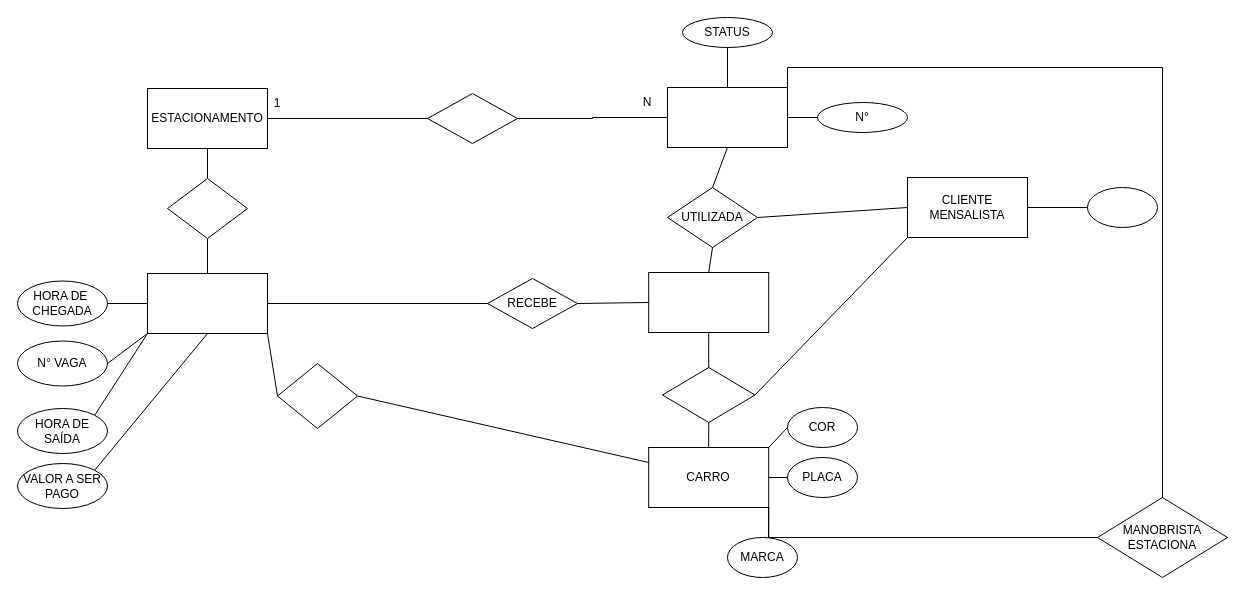
The diagram is 1245 pixels wide and 595 high, and some of its shapes have lost their labels. The shapes that lost their labels are listed below. From the top down, each one's centre as x and y in pixels, then its label:
At (x=472, y=118): "FORNECE".
At (x=727, y=117): "VAGAS".
At (x=207, y=208): "EMITE".
At (x=1122, y=207): "NOME".
At (x=207, y=303): "COMPROVANTE REGISTRO".
At (x=708, y=302): "CLIENTES AVULSOS".
At (x=317, y=395): "CONTÉM".
At (x=708, y=394): "POSSUI".
